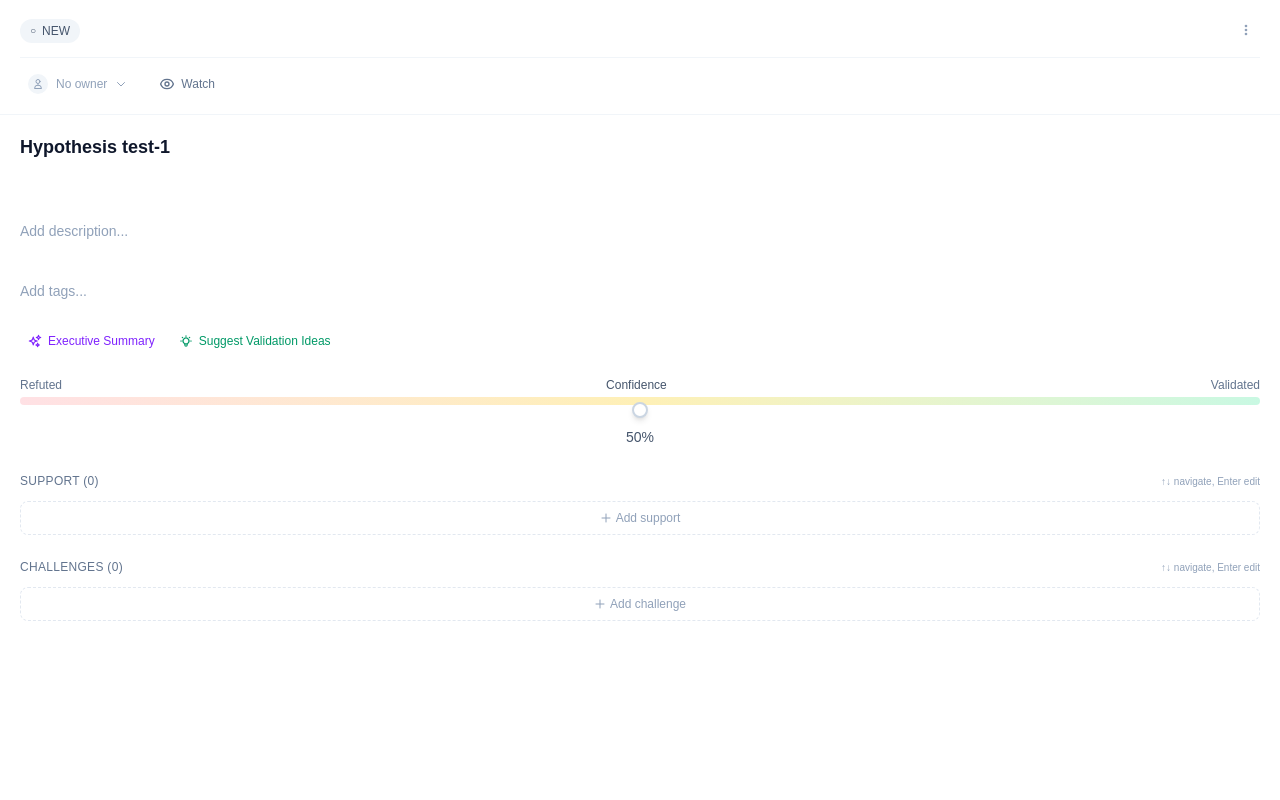
DetailPane › Confidence Slider › updates displayed confidence value in real-time
The width and height of the screenshot is (1280, 800).
Step 1. Set the slider to "75" → [946, 410], box x1=20 y1=406 x2=1260 y2=414
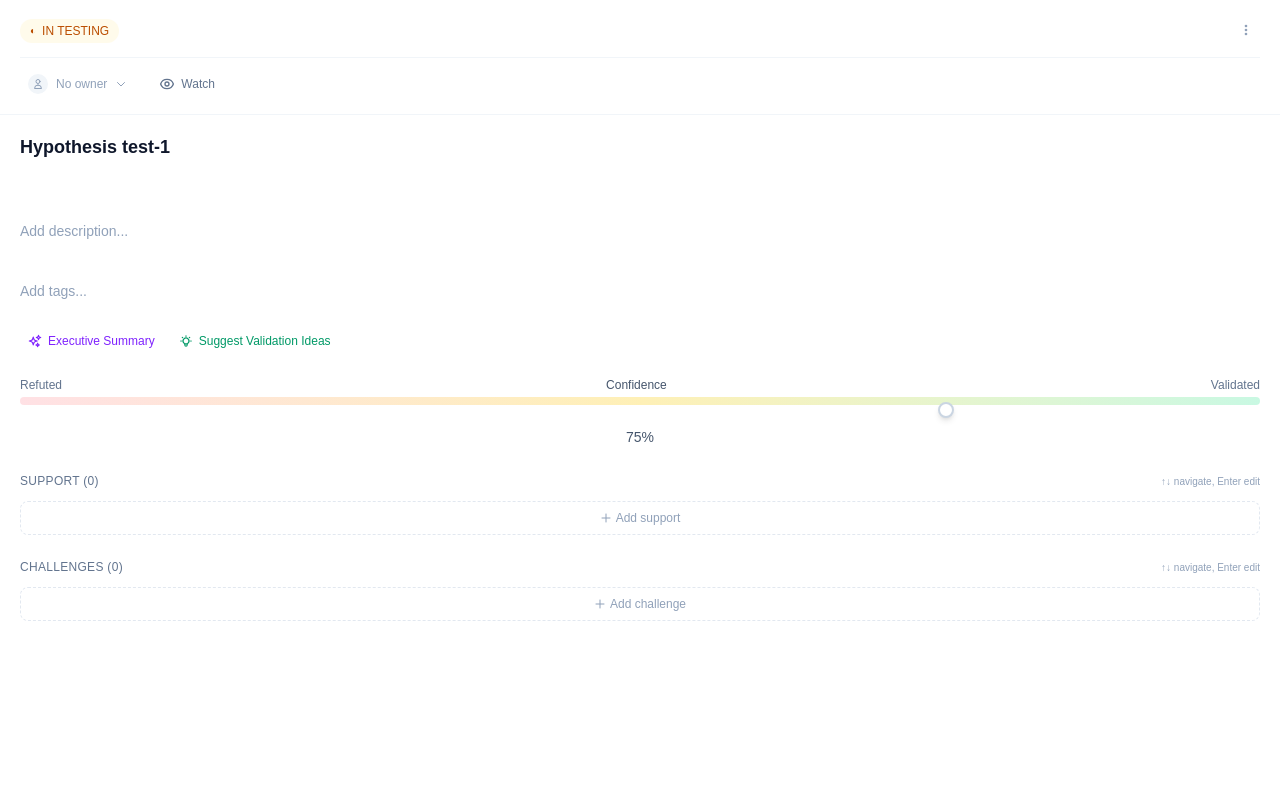
Expected: the text "75%" is shown, x1=626 y1=429 x2=654 y2=445
